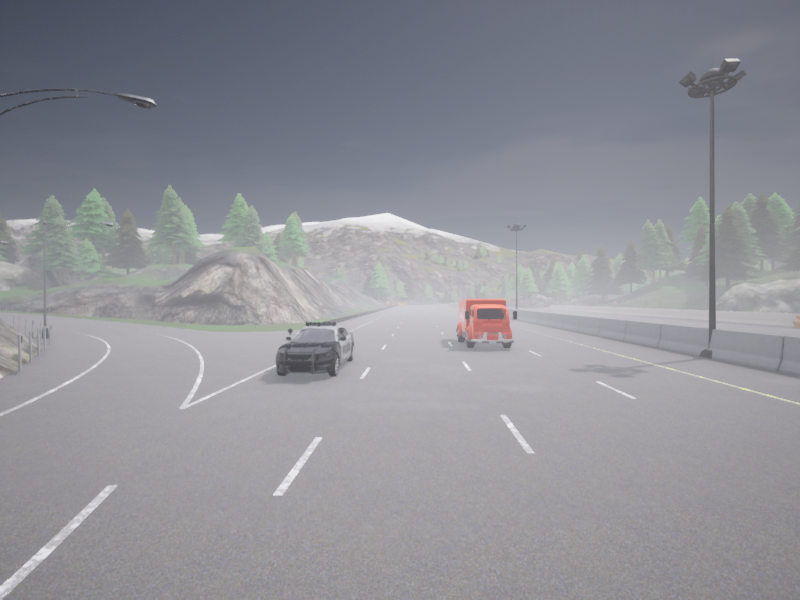vehicle: (276, 322, 354, 375), (456, 299, 516, 347)
